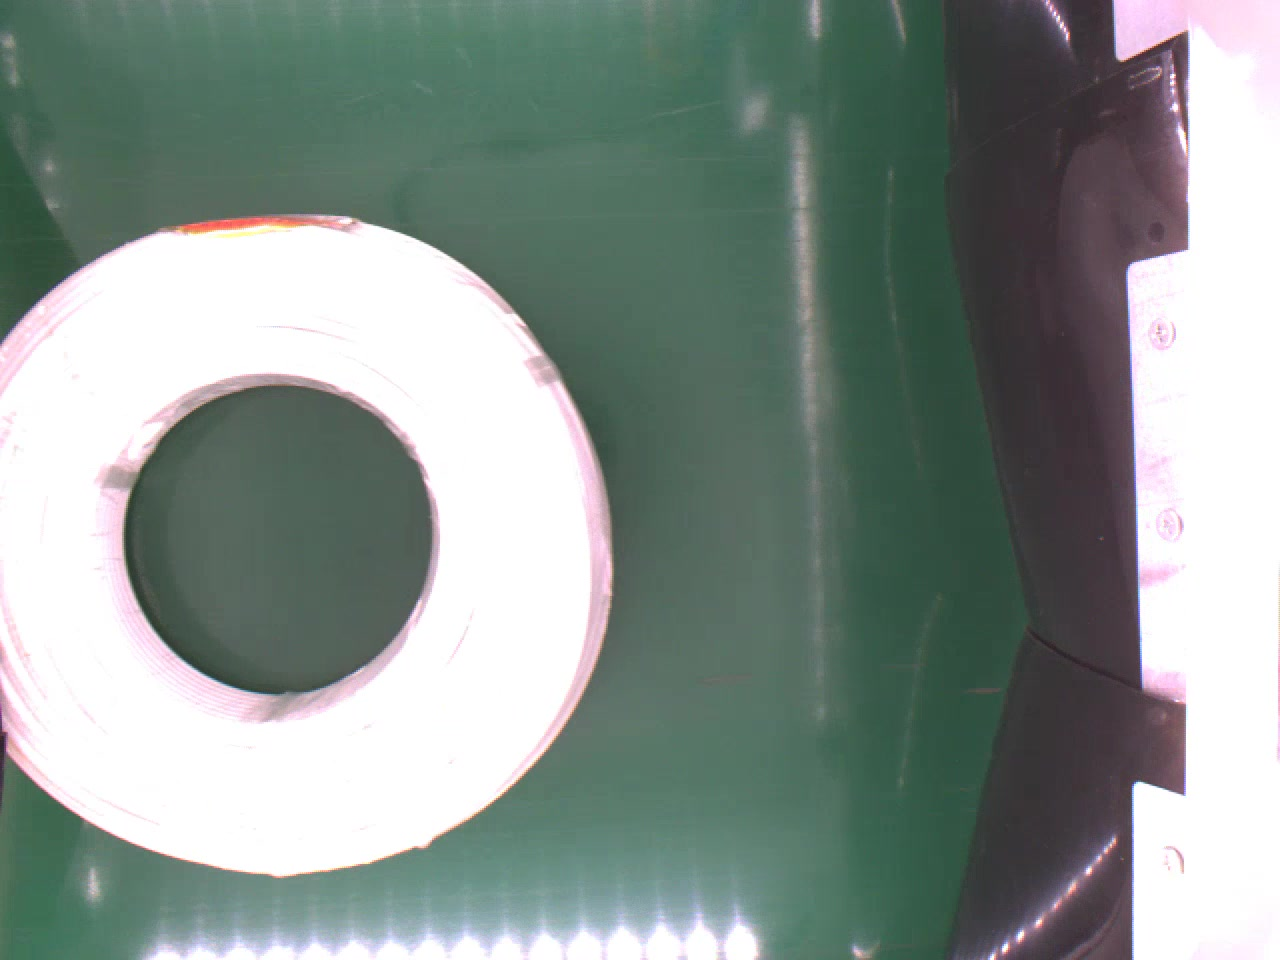white: (0, 206, 616, 877)
